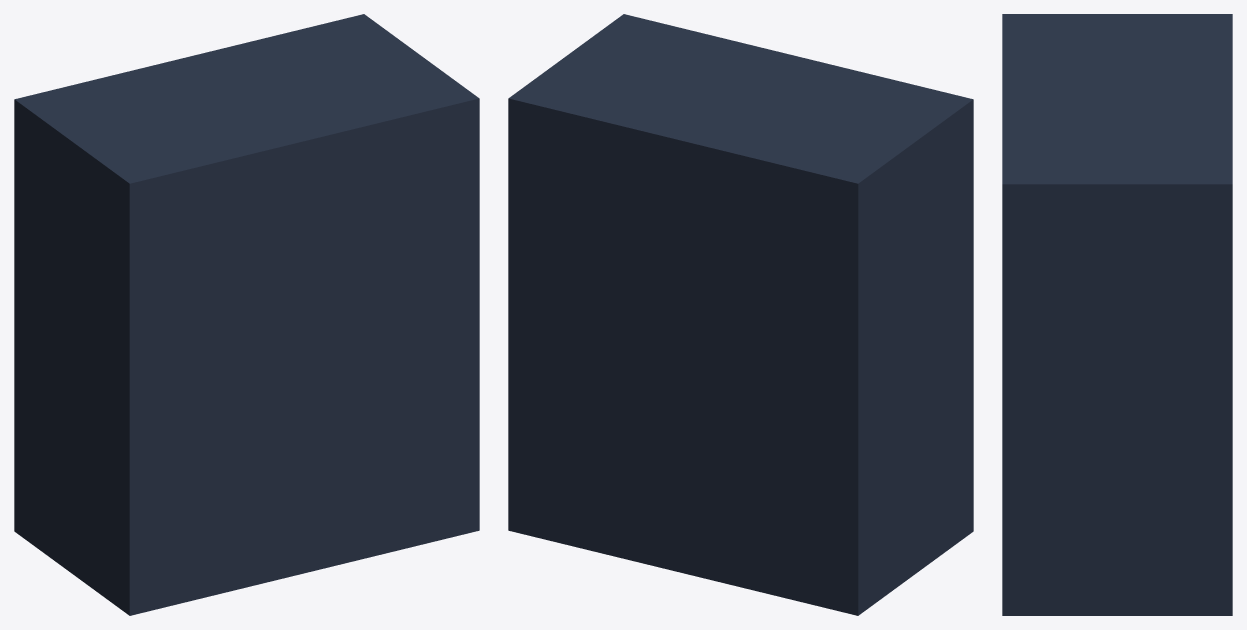
The model's file is character-buencan.glb.
3 renders of one model, left to right at view 1: azimuth 30°, elevation 25°; view 2: azimuth 150°, elevation 25°; view 3: azimuth 270°, elevation 25°, orthographic.
Parts seen in each view (by area): view 1: Buencan; view 2: Buencan; view 3: Buencan.
Boxes of the visible parts, left/top/right/bottom form: Buencan: left=14, top=14, right=479, bottom=615; Buencan: left=508, top=14, right=973, bottom=615; Buencan: left=1002, top=14, right=1232, bottom=615.
Size of the model in its own units: 0.525 by 0.62 by 0.3.
